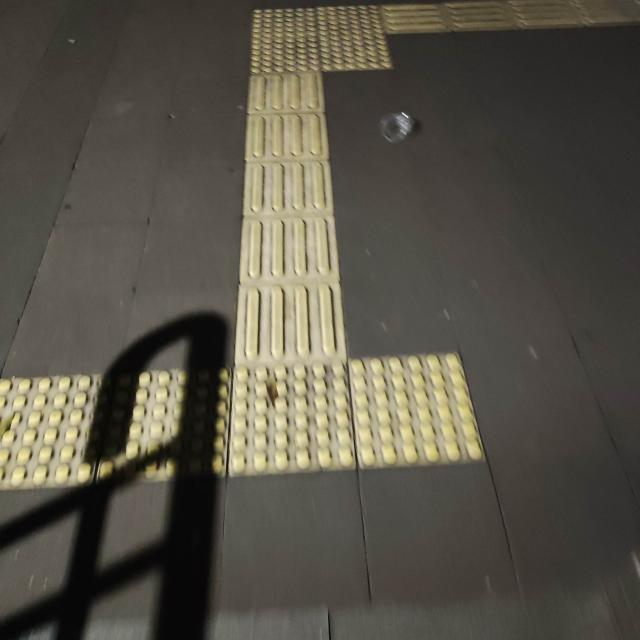kanan: (210, 0, 515, 96)
